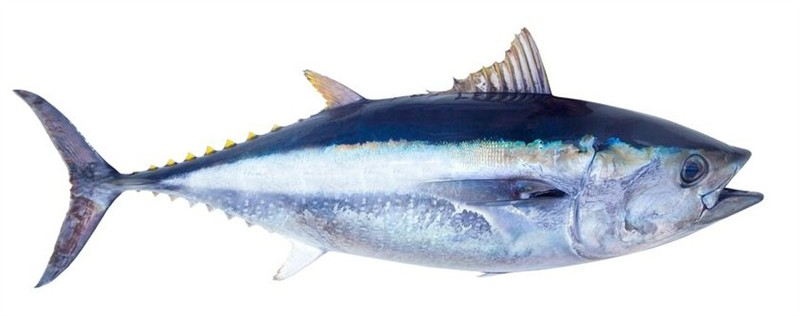Bluefina Tuna: (2, 46, 785, 300)
